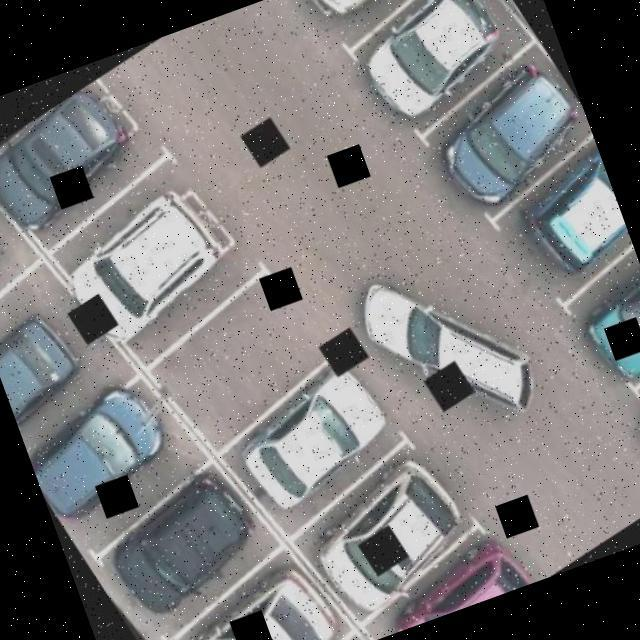Car: (339, 206, 564, 484), (25, 152, 265, 371), (60, 429, 301, 640), (200, 329, 432, 543), (384, 26, 610, 243), (280, 437, 511, 640), (6, 338, 217, 560), (316, 0, 544, 150), (0, 69, 166, 251), (487, 137, 640, 314), (142, 532, 371, 640), (363, 514, 547, 636), (0, 273, 123, 454), (542, 240, 640, 417), (292, 0, 475, 43), (0, 162, 48, 323), (599, 340, 640, 503)
Vacant: (131, 252, 358, 458)
